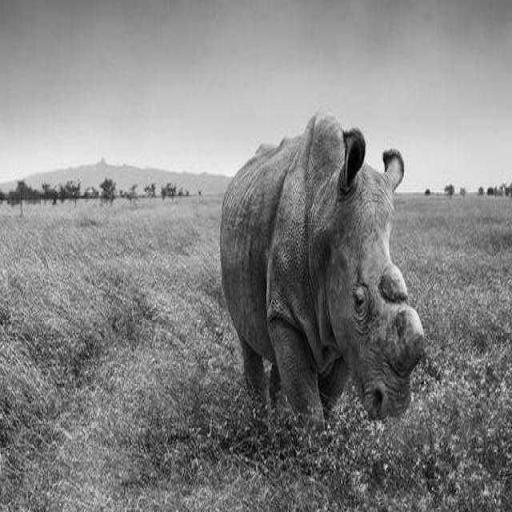Rhino: (218, 108, 425, 435)
